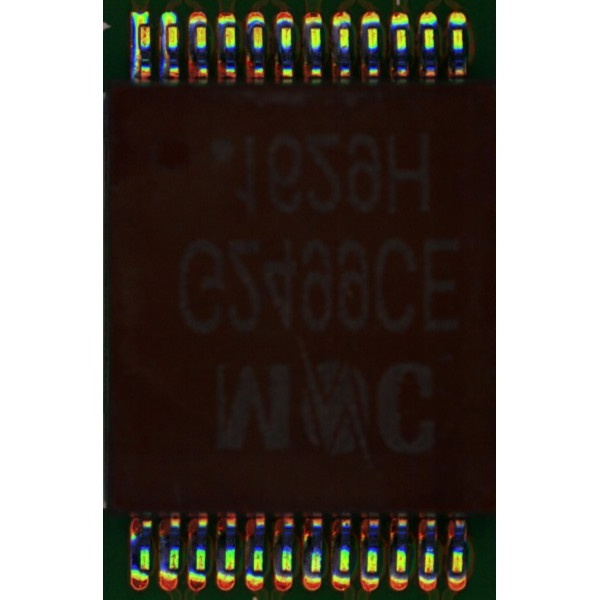Bad_qiaojiao: (132, 27, 140, 80), (160, 26, 167, 77)
